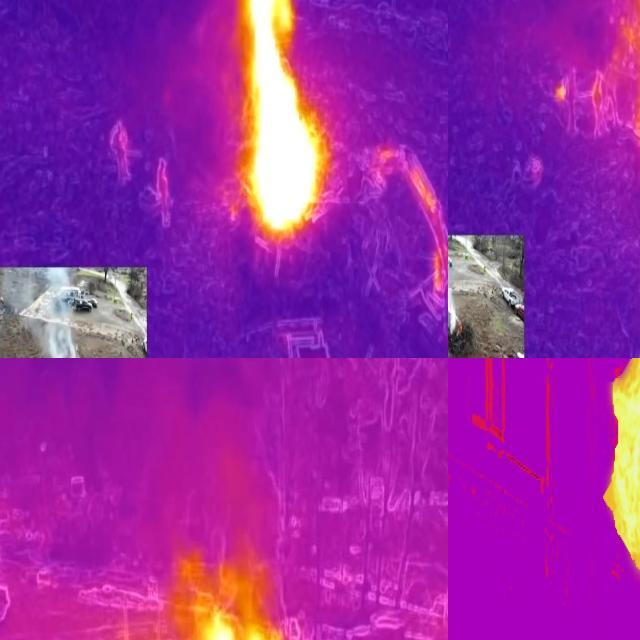fire: (234, 1, 329, 238), (586, 359, 640, 569)
